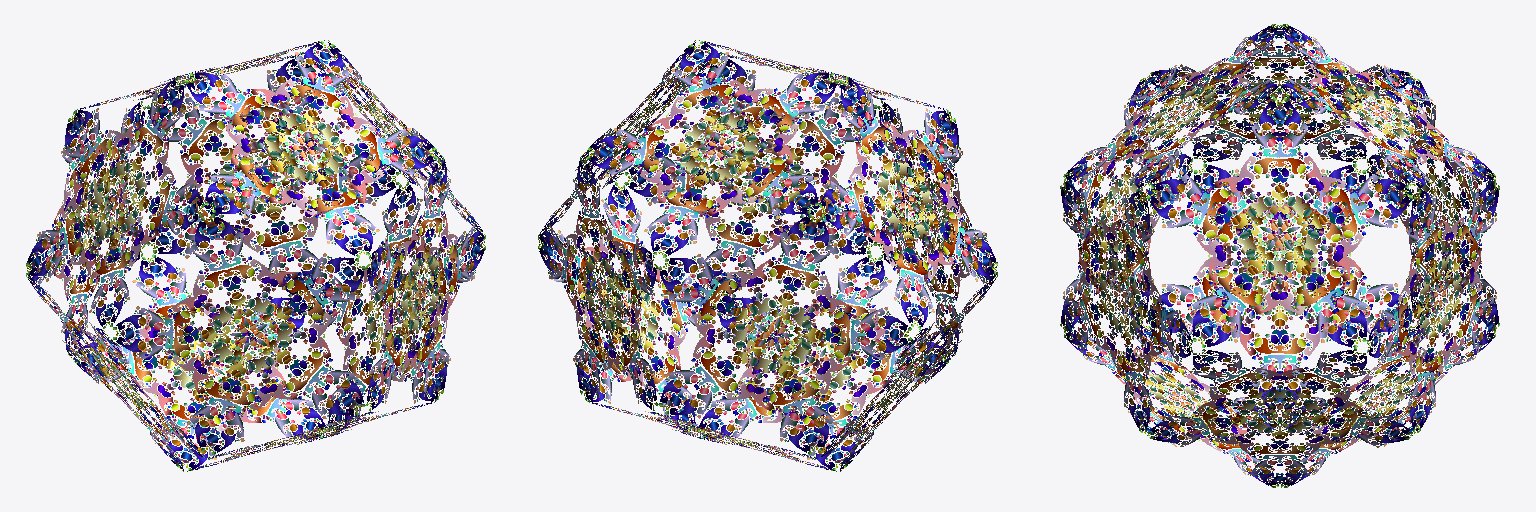
The picture shows the model from 3 angles: view 1: azimuth 30°, elevation 25°; view 2: azimuth 150°, elevation 25°; view 3: azimuth 270°, elevation 25°; orthographic projection.
Bounding box in the file's own units: 2.62 × 2.62 × 2.62.
1 materials, 1 textured.